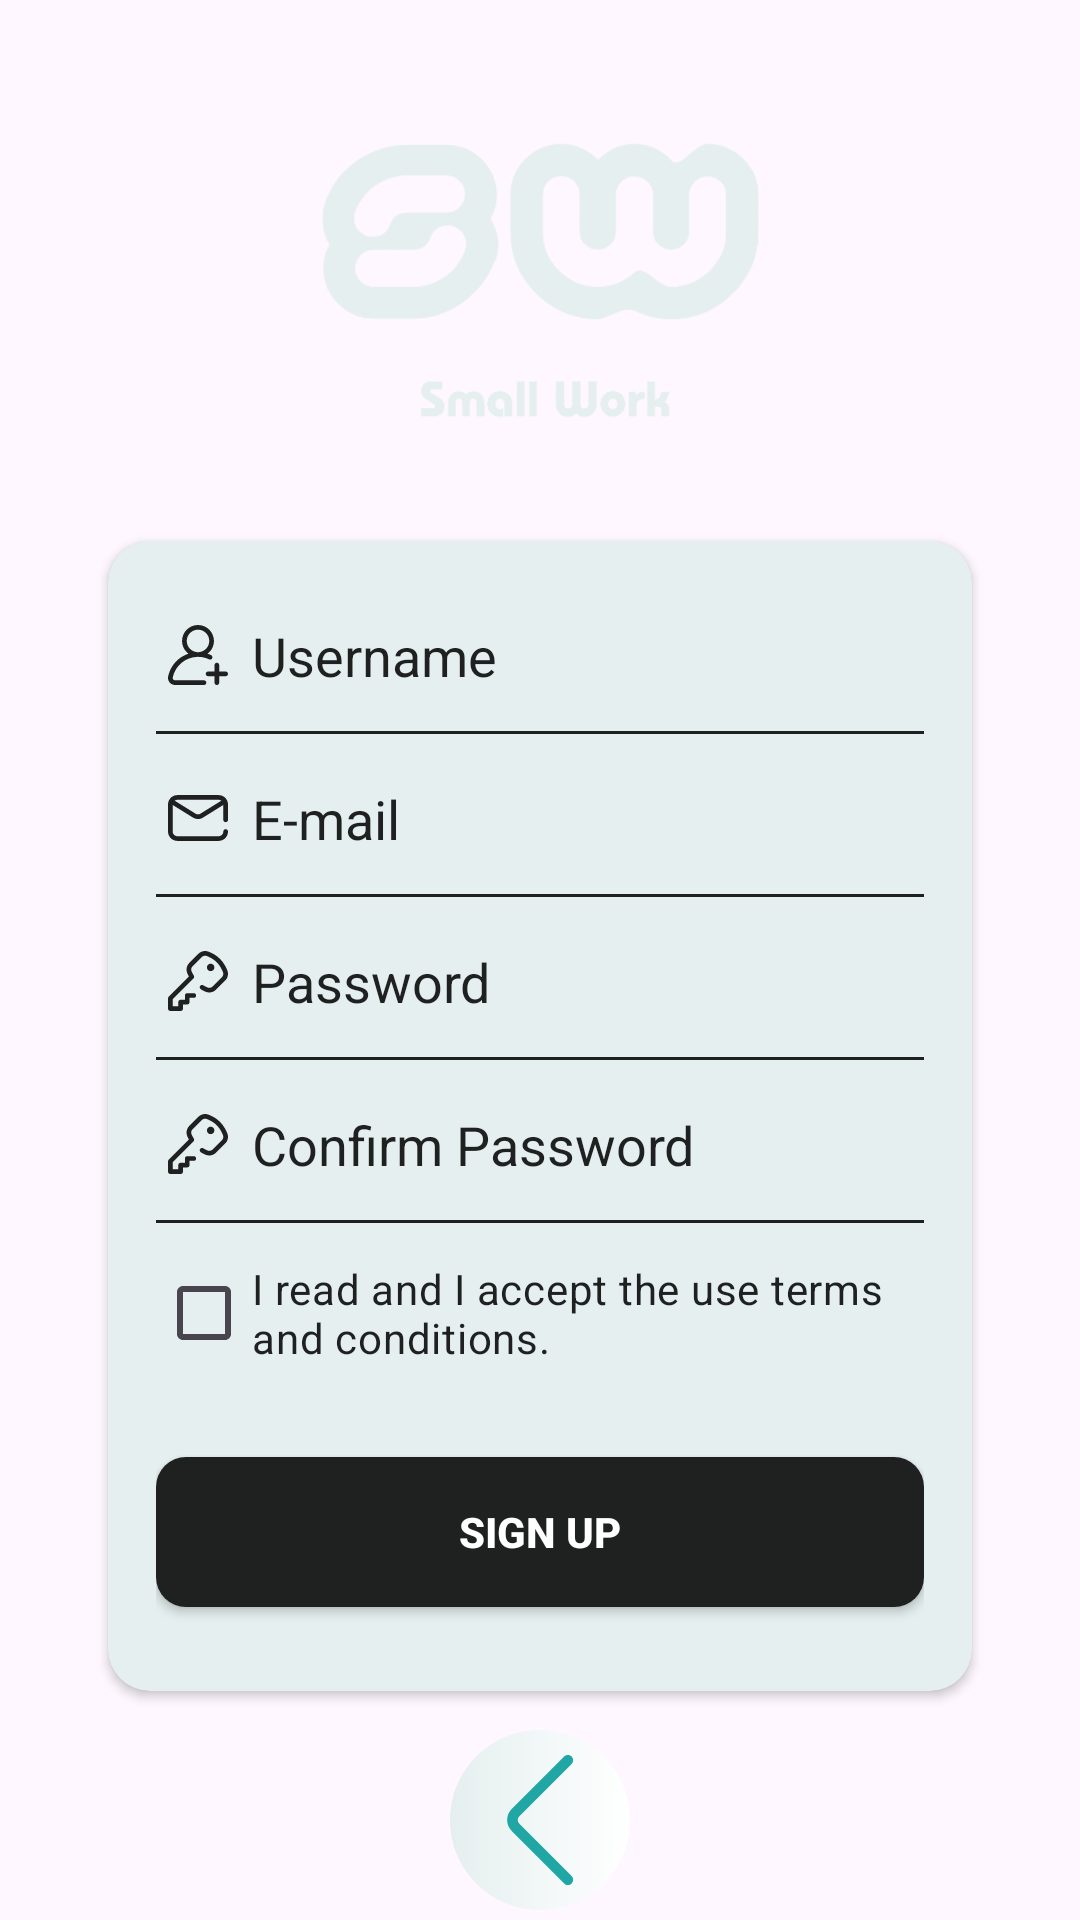

Screen size 1080×1920. Icon name, then its box in pixels as (x1, y1, x2, y2):
left arrow: (450, 1755, 574, 1885)
